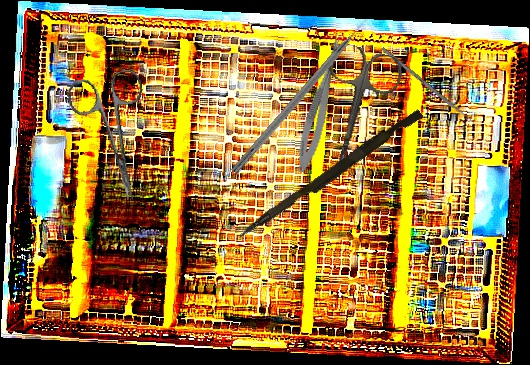Hook Surgical: (231, 16, 372, 176)
Iris Scissors: (299, 40, 407, 189), (64, 67, 165, 208)
Micro Scissor: (292, 29, 347, 175)
Pusher: (237, 104, 424, 246), (380, 46, 482, 130)
